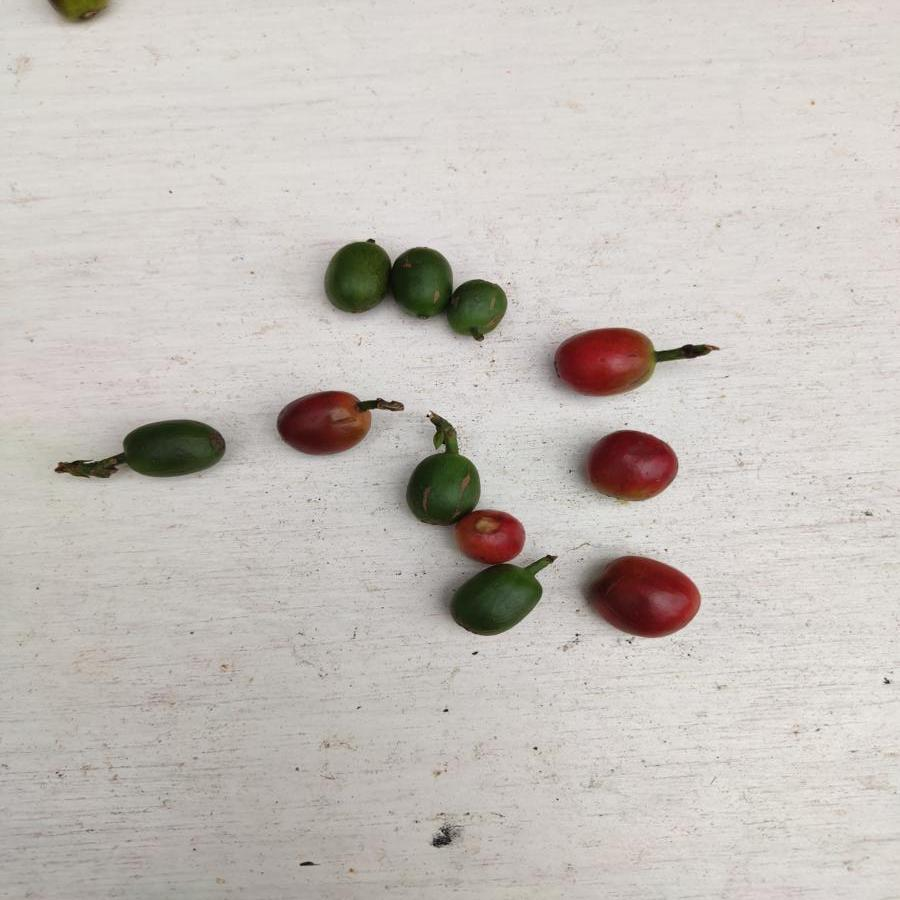Inmaduro: (444, 559, 543, 643), (118, 411, 222, 488), (322, 232, 396, 310), (405, 451, 484, 522), (390, 243, 450, 326), (450, 275, 516, 341)
Maduro: (588, 551, 705, 643), (585, 423, 679, 503), (557, 319, 653, 397), (273, 388, 373, 460), (459, 511, 522, 559)
